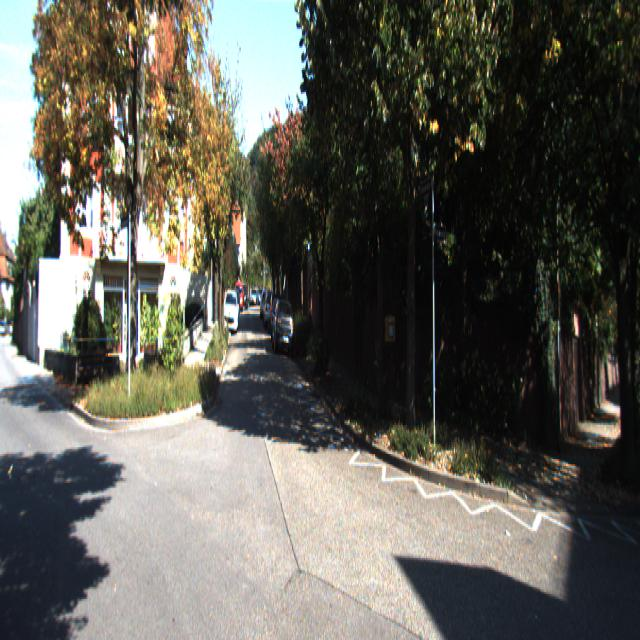Car: (272, 298, 294, 361), (223, 290, 239, 336)
